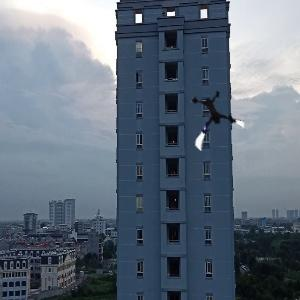drone: (186, 88, 248, 150)
